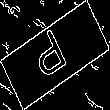P_SE: (32, 24, 78, 86)
